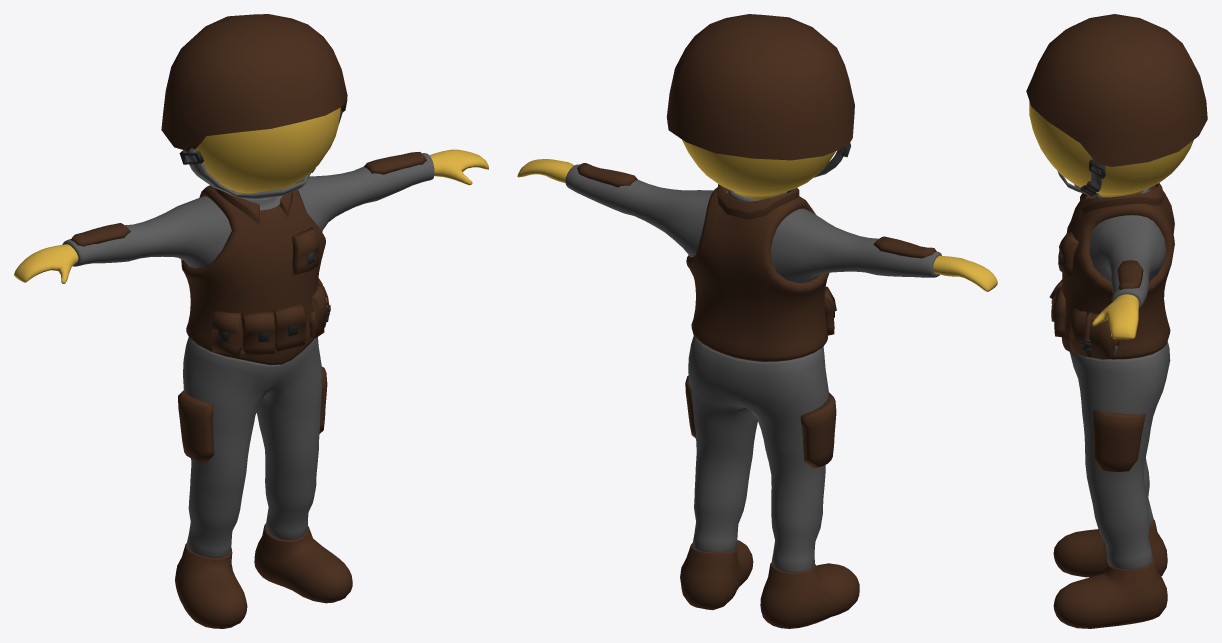
The model's file is soldier.fbx.
3 renders of one model, left to right at view 1: azimuth 30°, elevation 25°; view 2: azimuth 150°, elevation 25°; view 3: azimuth 270°, elevation 25°, orthographic.
Visible parts, largest first — view 1: soldier; view 2: soldier; view 3: soldier.
Part boxes in pixels (left/top/right/bottom): soldier: left=14, top=14, right=488, bottom=628; soldier: left=517, top=14, right=997, bottom=628; soldier: left=1026, top=14, right=1207, bottom=628.
Size of the model in its own units: 1.55 by 0.5269 by 1.82.
